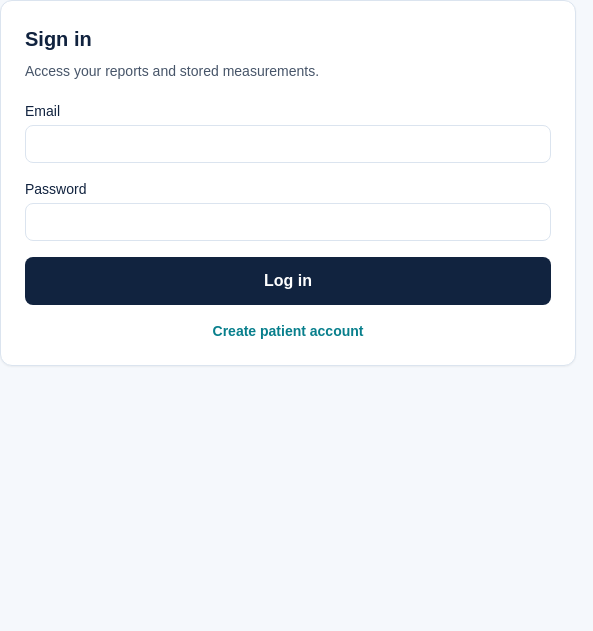
rejects password mismatch without submitting
Click the button "Create patient account". click: click(288, 331)
box: [25,321,551,341]
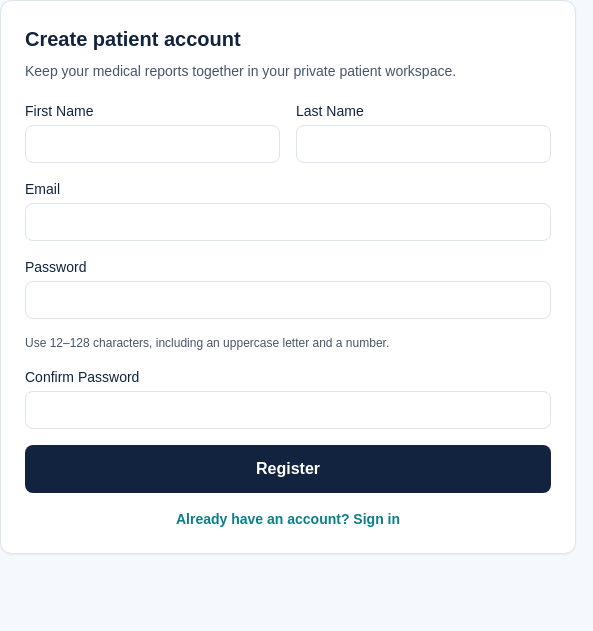
Type "Synthetic" into the field labelled "First Name". click: (152, 144)
box: [25,125,280,163]
Type "Patient" into the field labelled "Last Name". click: (424, 144)
box: [296,125,551,163]
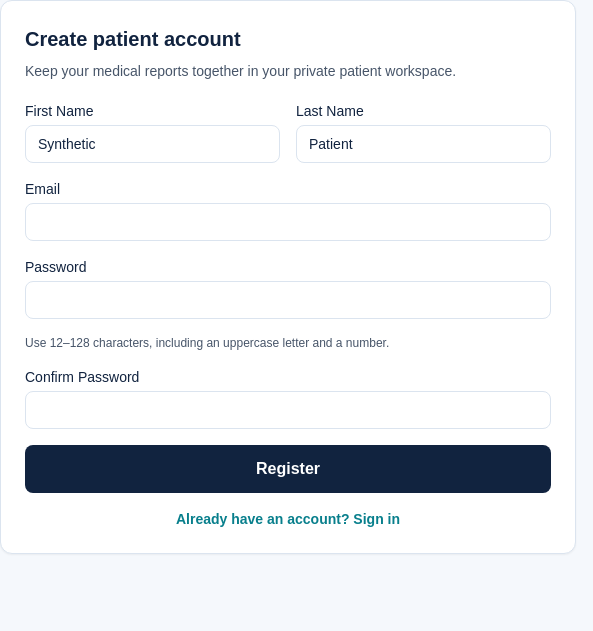
Type "synthetic@test.example" into the field labelled "Email". click: (288, 222)
box: [25,203,551,241]
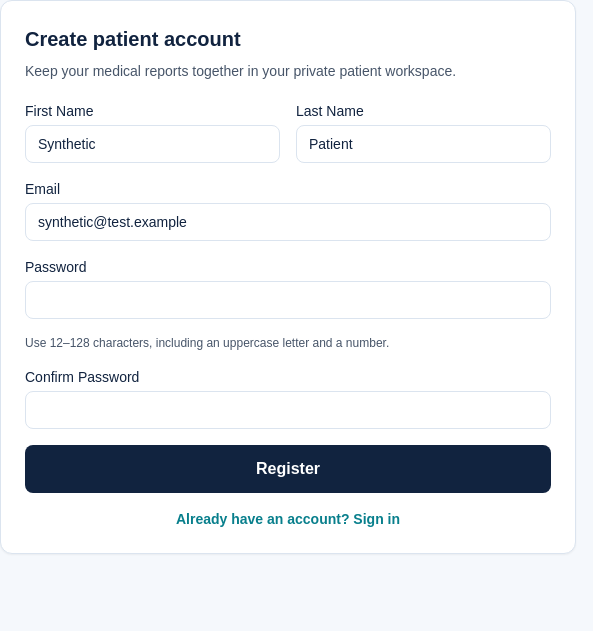
Type "StrongPassword123!" into the password field labelled "Password". click: (288, 300)
box: [25,281,551,319]
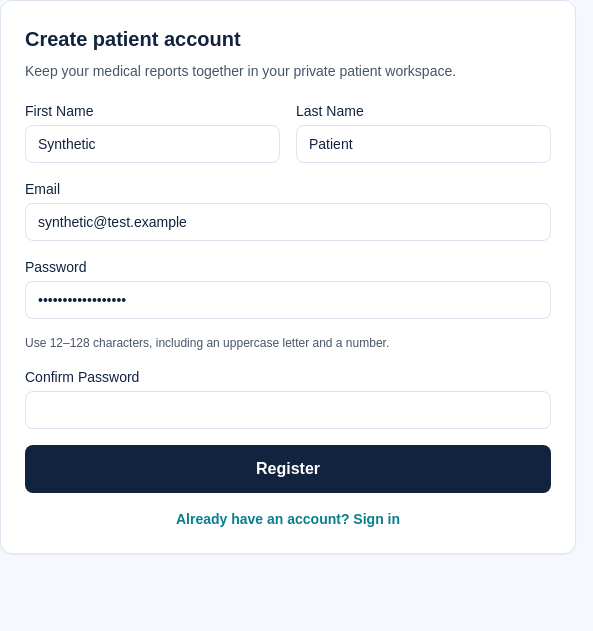
Type "DifferentPassword123!" into the password field labelled "Confirm Password". click: (288, 410)
box: [25,391,551,429]
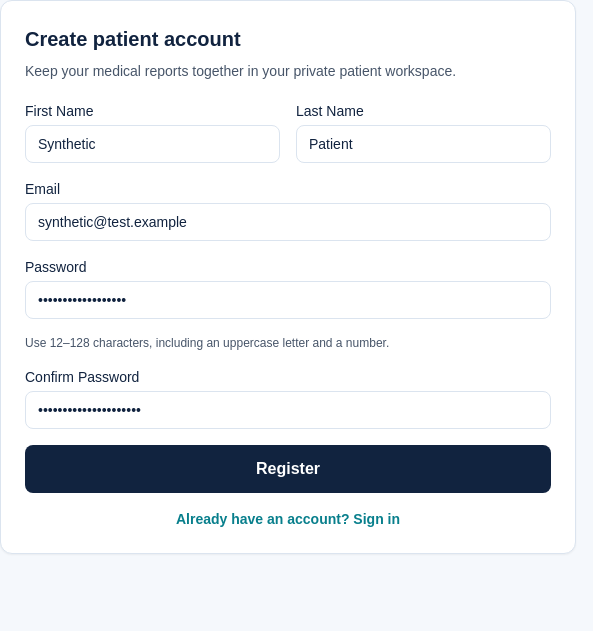
Click the button "Register". click: click(288, 469)
box: [25,445,551,493]
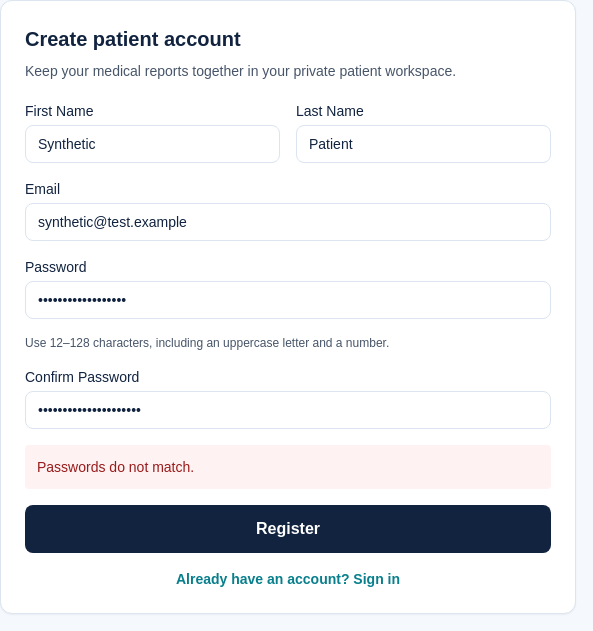
Now the message shows "Passwords do not match", box [37,459,194,475]
